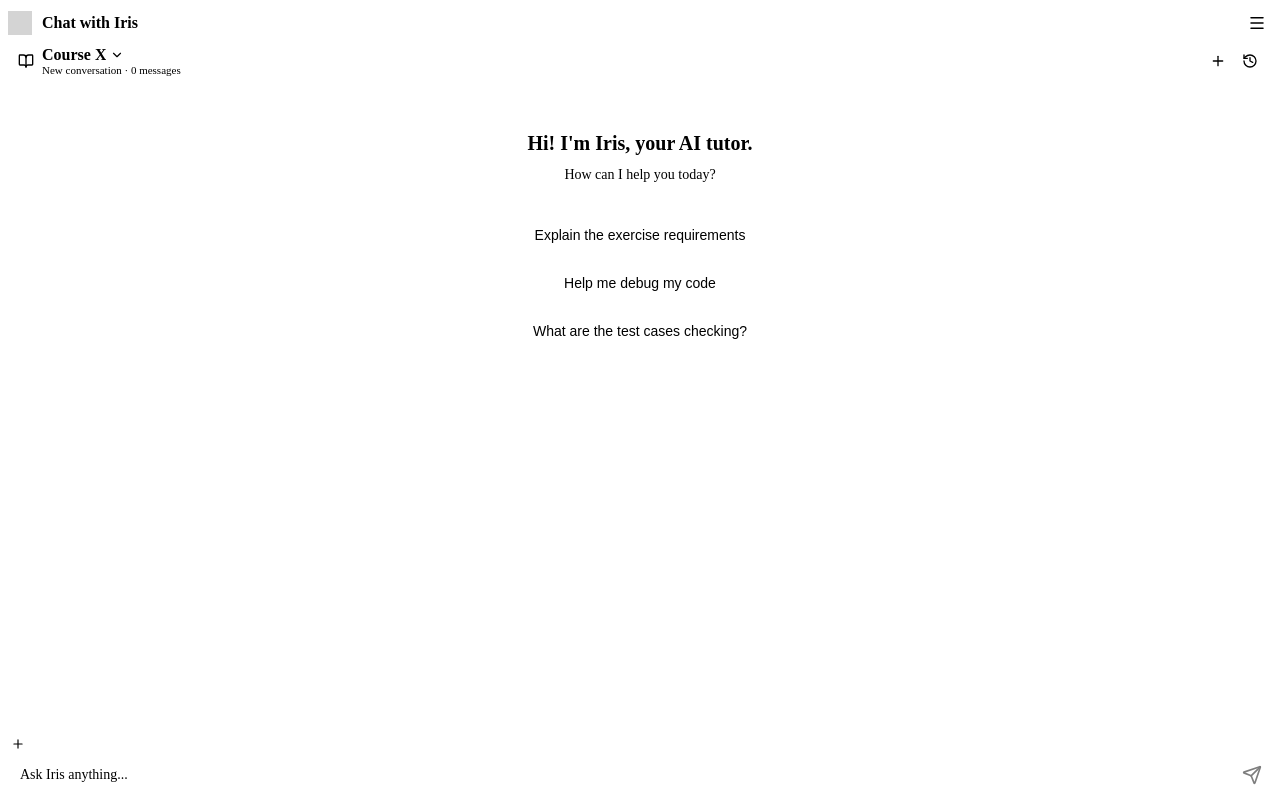
Test: IrisChatView › Header popovers › never shows the topic picker and history at the same time
Click the button named "View past conversations" at coordinates (1250, 61), box [1238,49,1262,73]
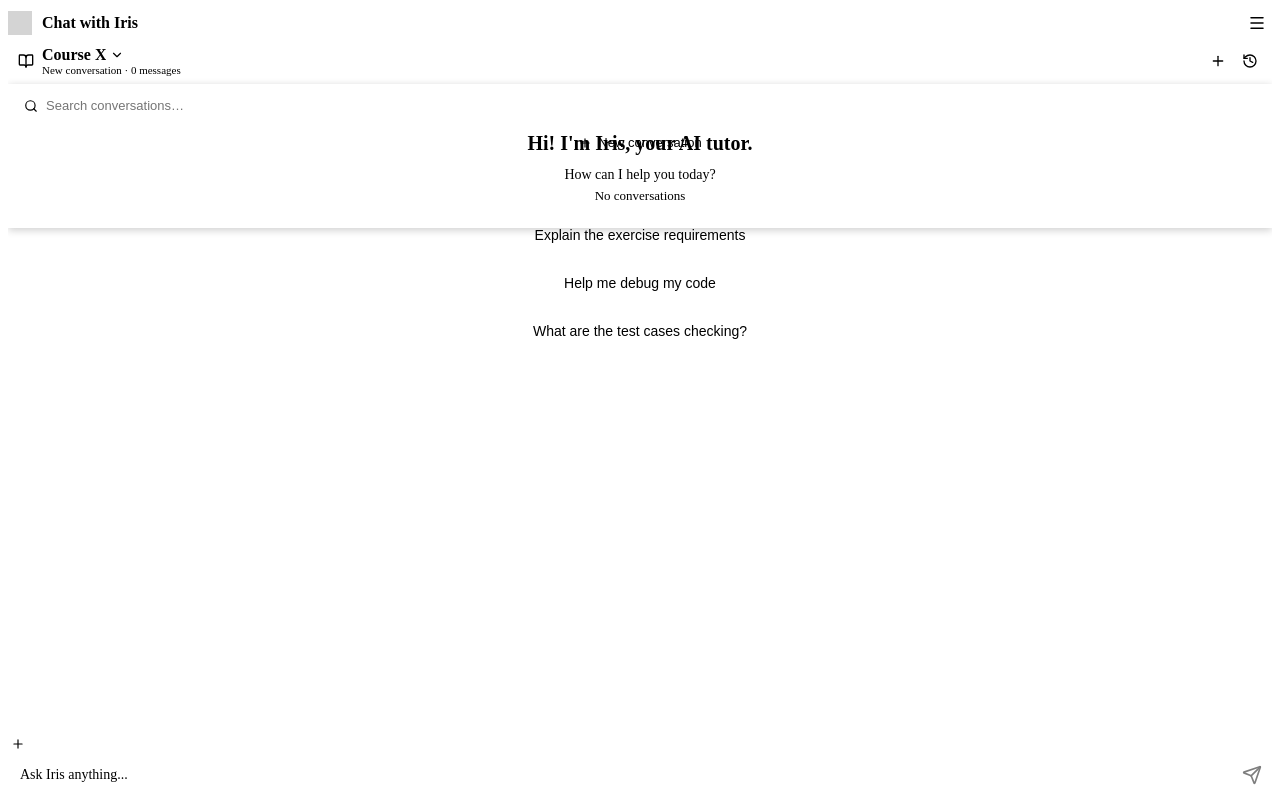
Check: the number of dialogs is 1, box [8,84,1272,228]
Click the button named "Choose topic" at coordinates (18, 744), box [8,734,28,754]
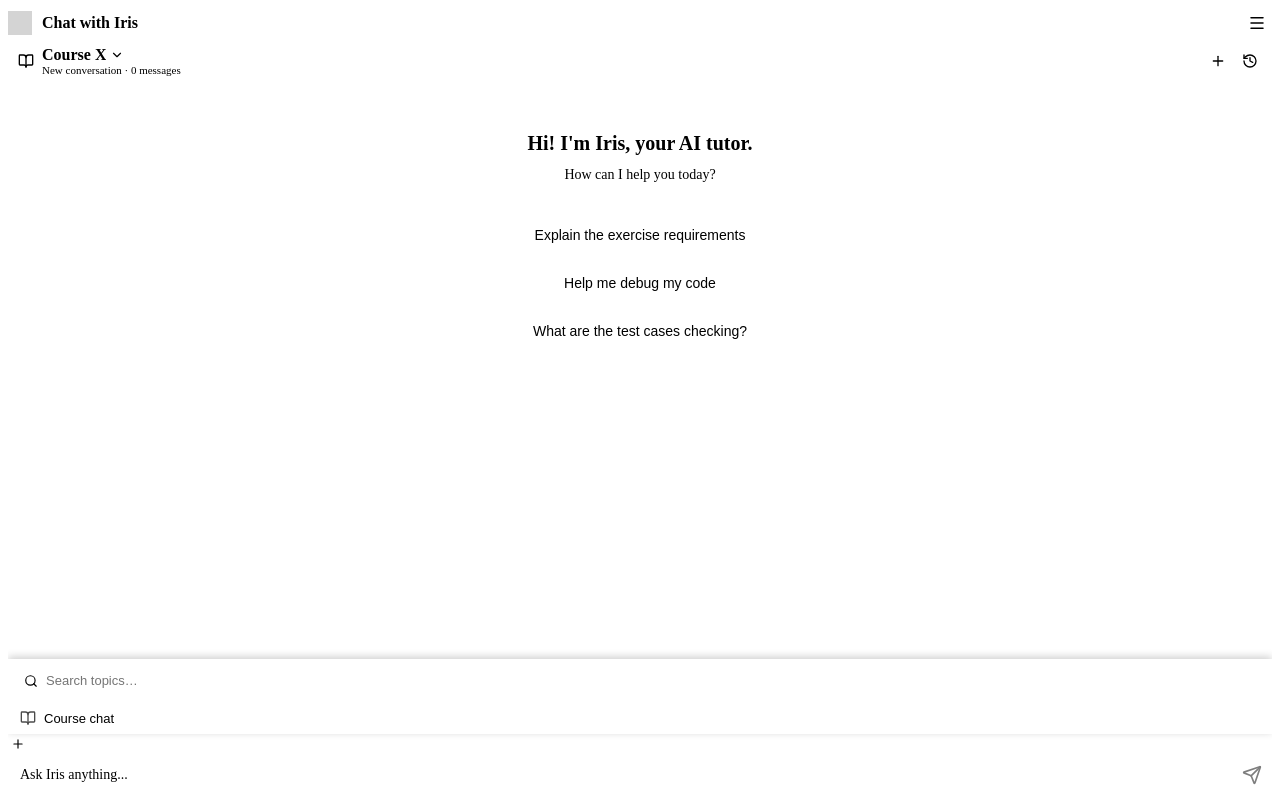
Check: the number of dialogs is 1, box [8,659,1272,734]
